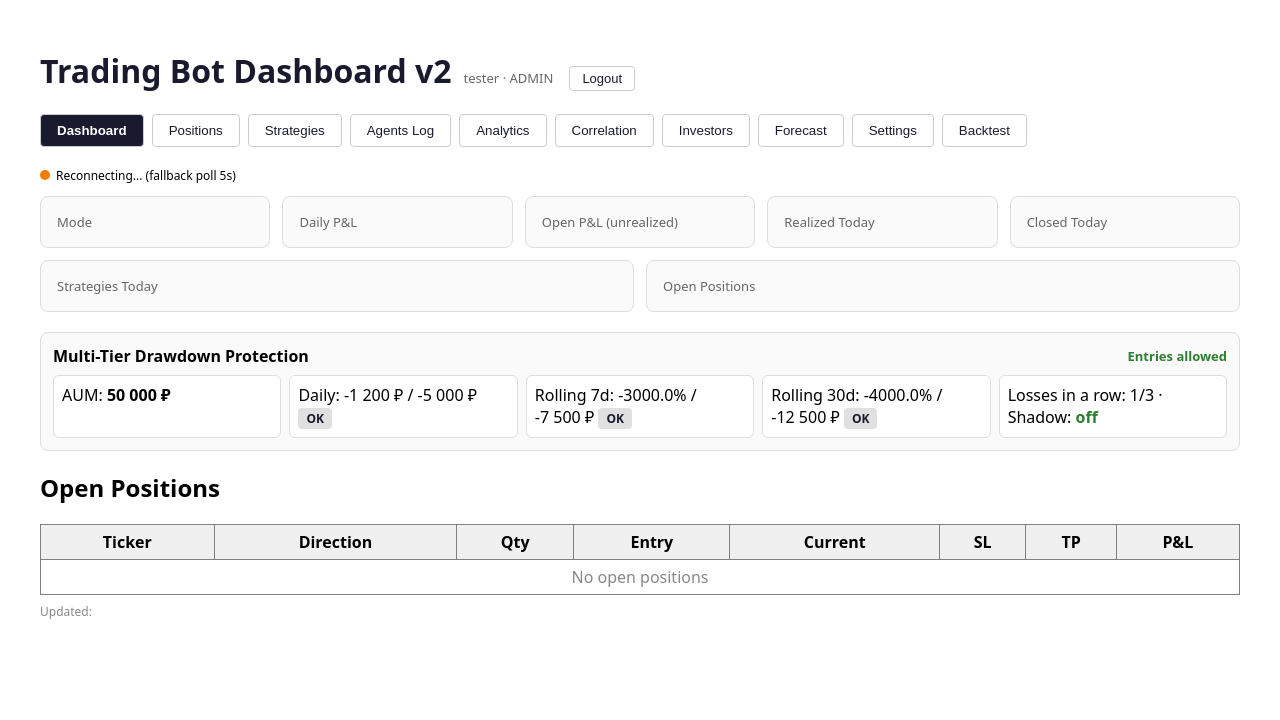
Test: App › navigates to the Positions tab and renders empty table
Step 1. Click the button "Positions" → {"x": 196, "y": 130}, box [152,114,240,147]
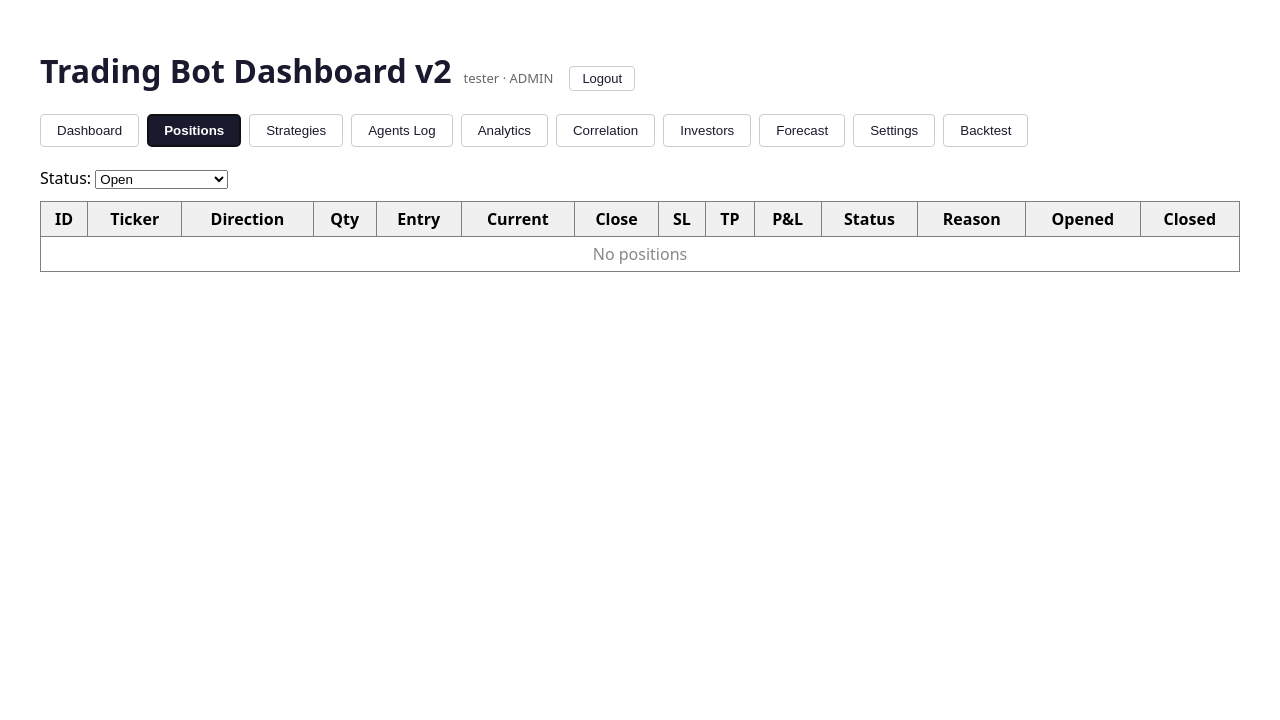
Expected: the text "No positions" is shown, [40,236,1240,271]
